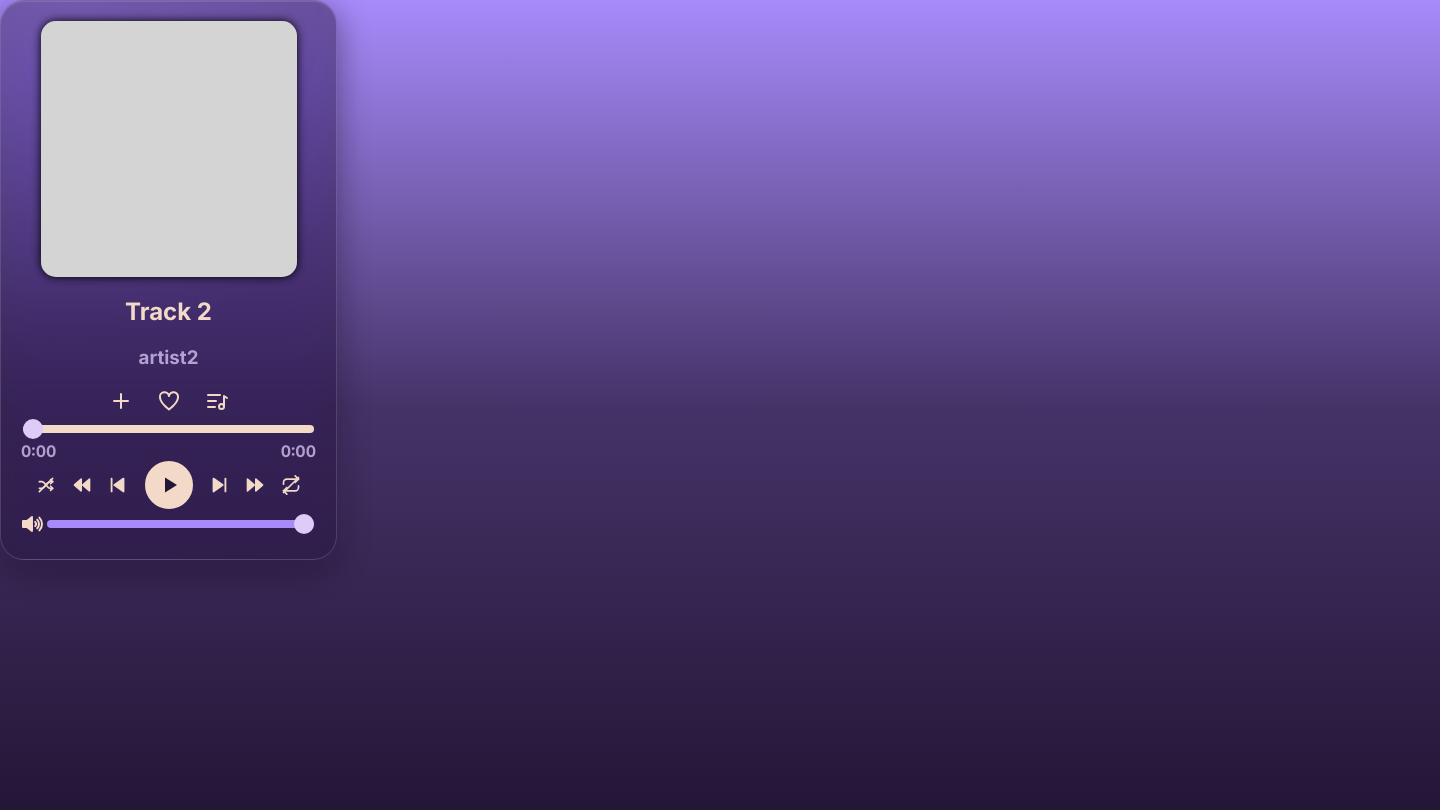
Test: AudioPlayer › shuffle › enabling puts the playing track first and resets the index
Click the button named "Shuffle Off" at (46, 486), box [36, 460, 56, 512]
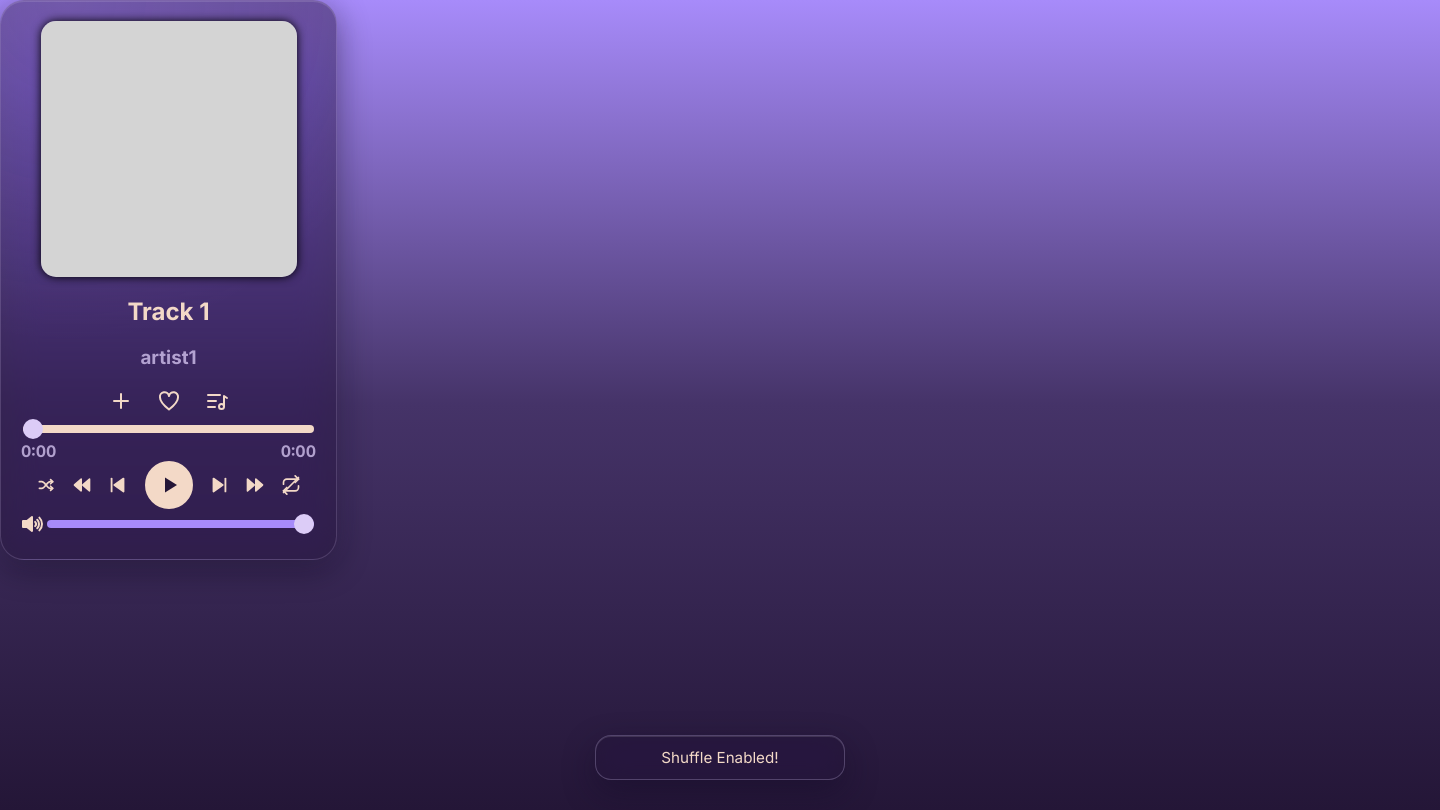
Check: the number of buttons named "Shuffle On" is 1, box [36, 460, 56, 512]
Check: the text with id "snackbar" reads "Shuffle Enabled!", box [661, 748, 779, 767]
